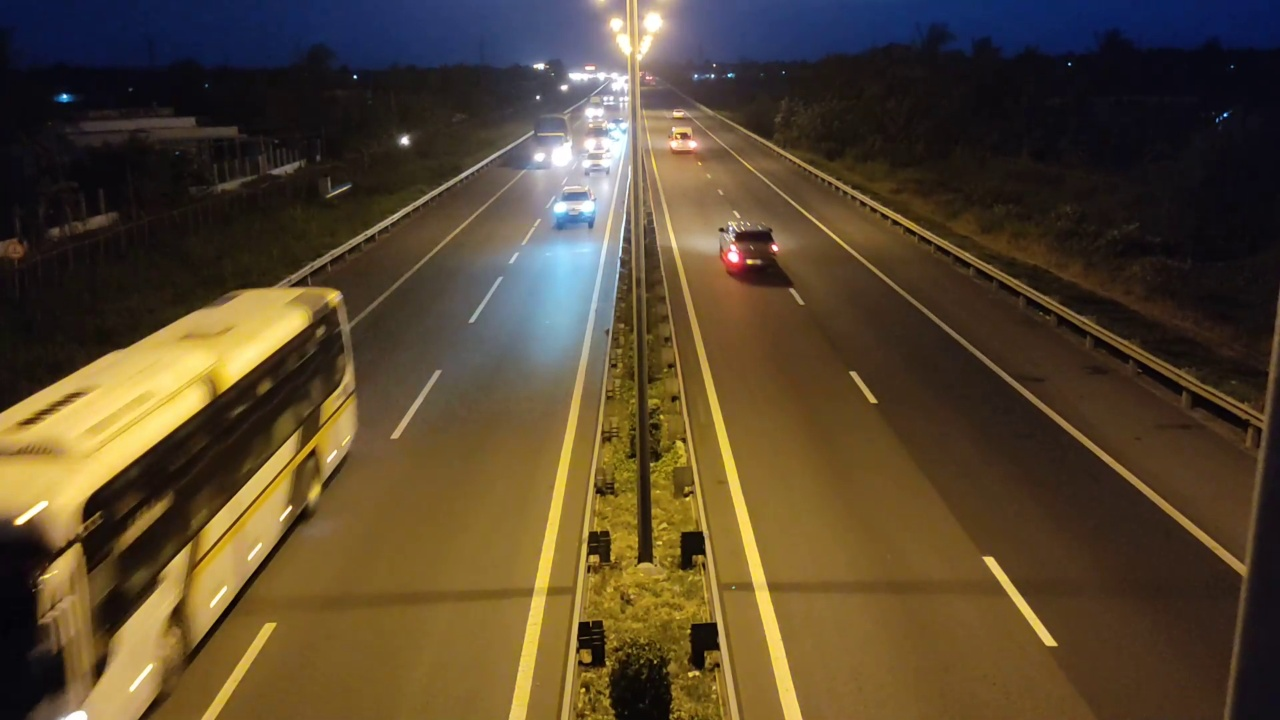bus: (1, 284, 360, 715)
car: (719, 221, 781, 274), (549, 185, 597, 231)
